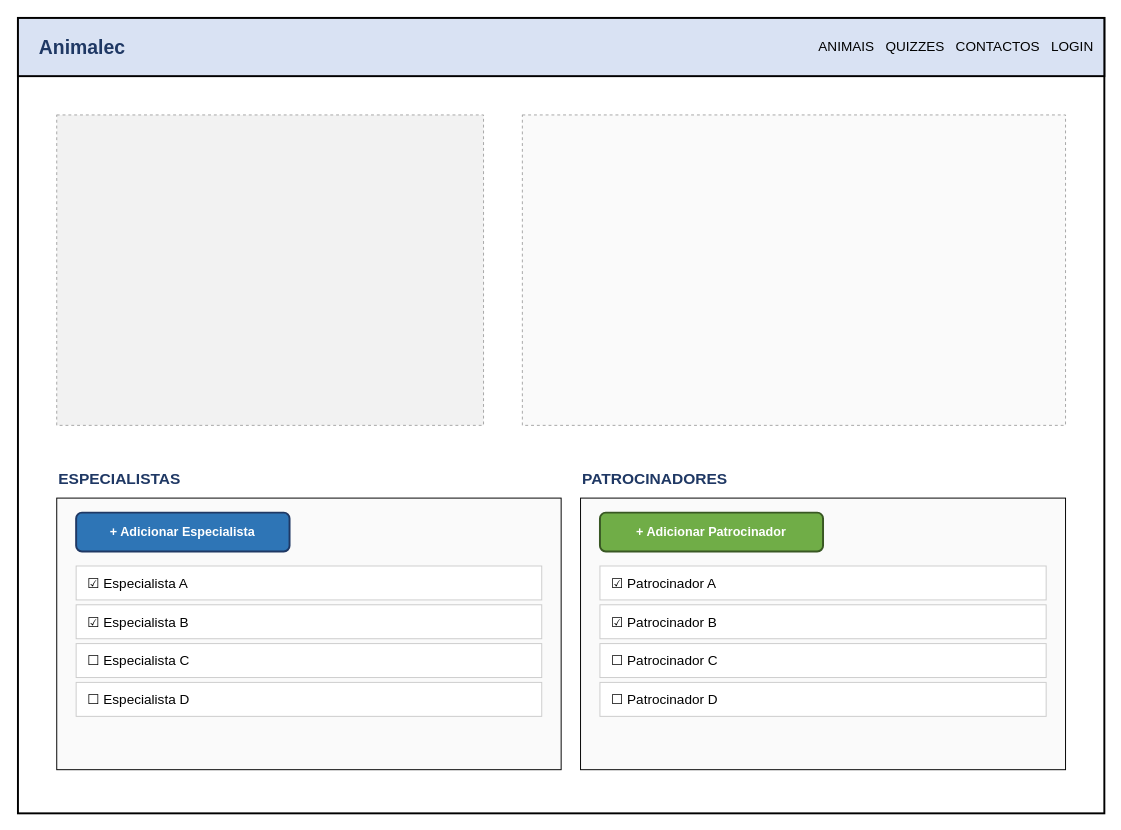
The diagram is 1121 pixels wide and 830 high, and some of its shapes have lost their labels. The box of each missing label's shape, as (x1, y1, x2, y2) in pixels:
[ Imagem do Animal ]: (56, 114, 484, 425)
[ Nome / Descrição / Habitat / Curiosidades ]: (521, 114, 1066, 425)
